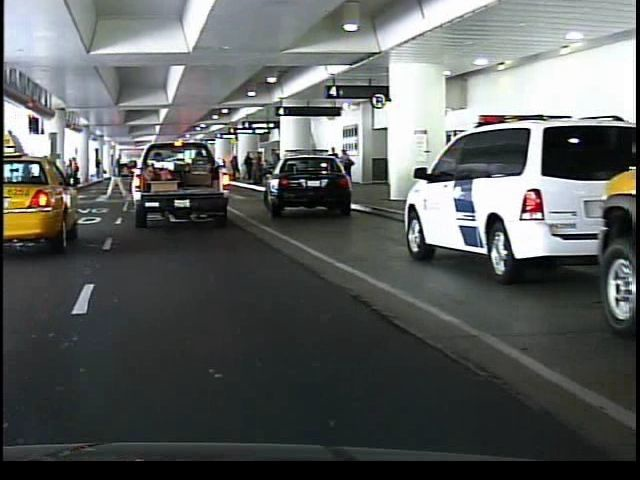person: (101, 152, 127, 201)
